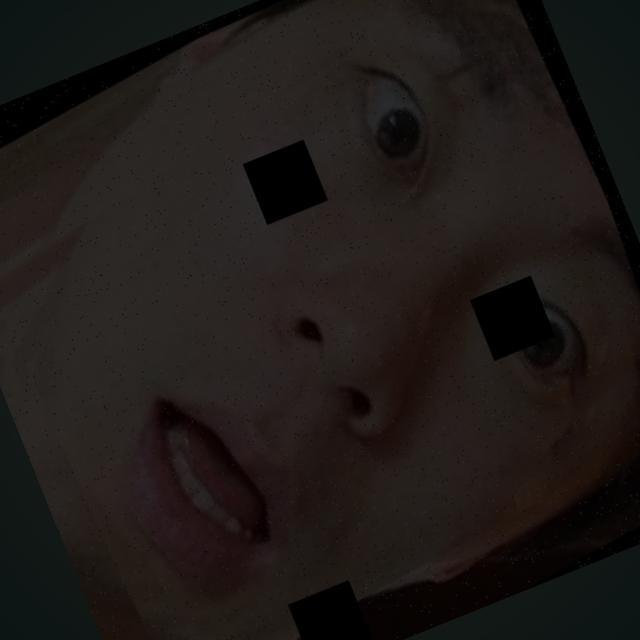surprised: (9, 19, 625, 640)
